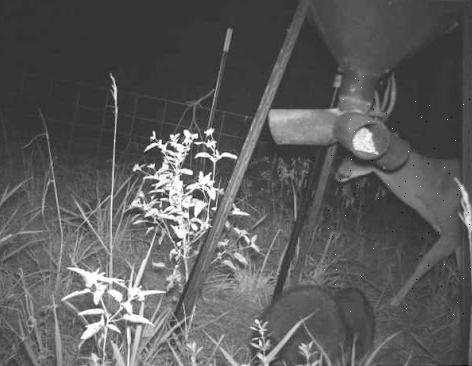Deer: (324, 71, 472, 316)
